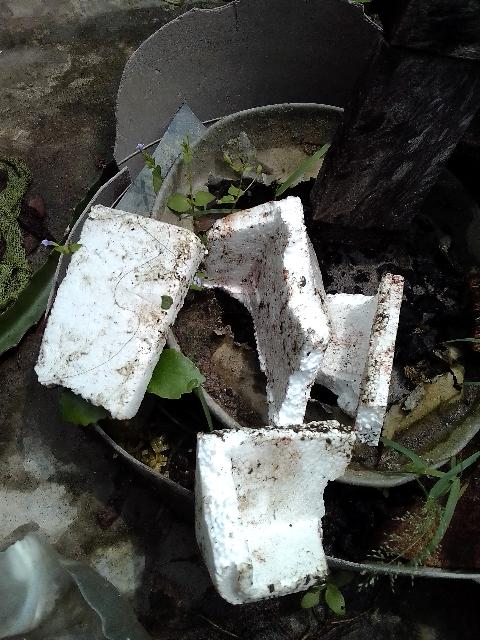cocksheet: (13, 196, 198, 422), (211, 189, 335, 435), (199, 430, 323, 604), (302, 271, 398, 429)
